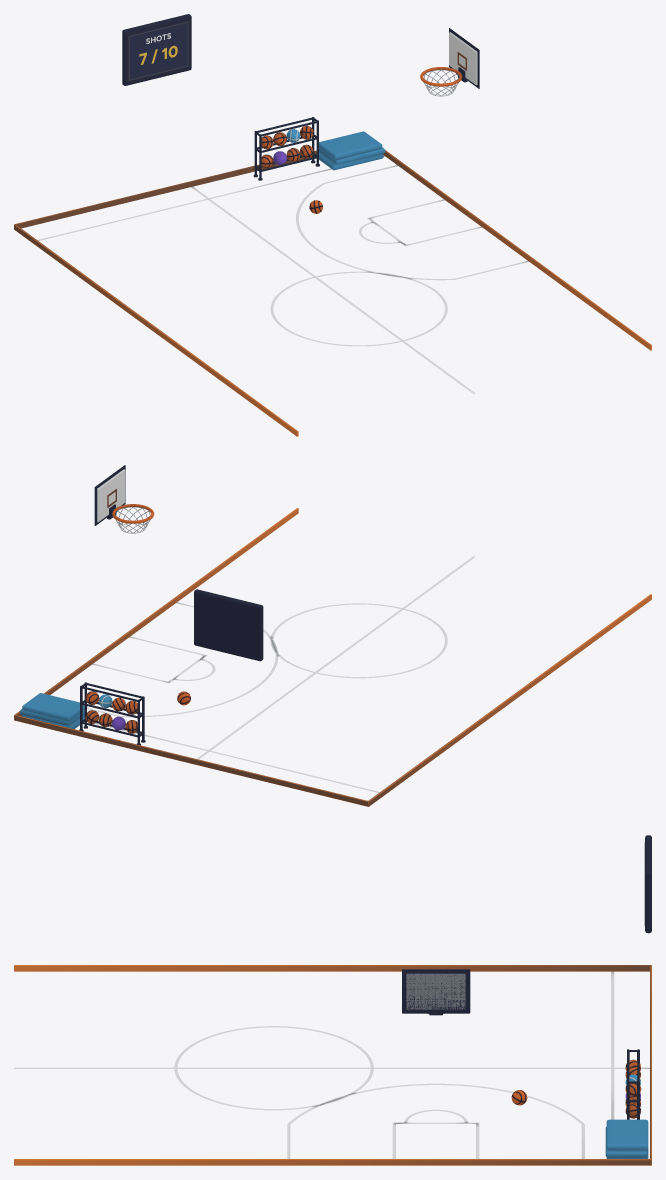
The model's file is play_props.glb.
The picture shows the model from 3 angles, top to bottom: view 1: azimuth 30°, elevation 25°; view 2: azimuth 150°, elevation 25°; view 3: azimuth 270°, elevation 25°; orthographic projection. The views are drawn at different scales.
Parts seen in each view (by area): view 1: room_static, scoreboard_screen, rack_balls, hoop_backboard; view 2: room_static, rack_balls, hoop_backboard; view 3: room_static, hoop_backboard, hoop_mount, rack_balls.
Part boxes in pixels (<box>): room_static: <box>14,14,651,436</box>; scoreboard_screen: <box>129,23,187,79</box>; rack_balls: <box>261,125,313,168</box>; hoop_backboard: <box>449,32,477,85</box>; room_static: <box>14,508,651,806</box>; rack_balls: <box>85,691,137,733</box>; hoop_backboard: <box>97,469,125,522</box>; room_static: <box>14,835,651,1165</box>; hoop_backboard: <box>406,973,465,1009</box>; hoop_mount: <box>402,969,470,1015</box>; rack_balls: <box>625,1059,641,1118</box>.
Bounding box in the file's own units: 9.4 × 4.41 × 13.
